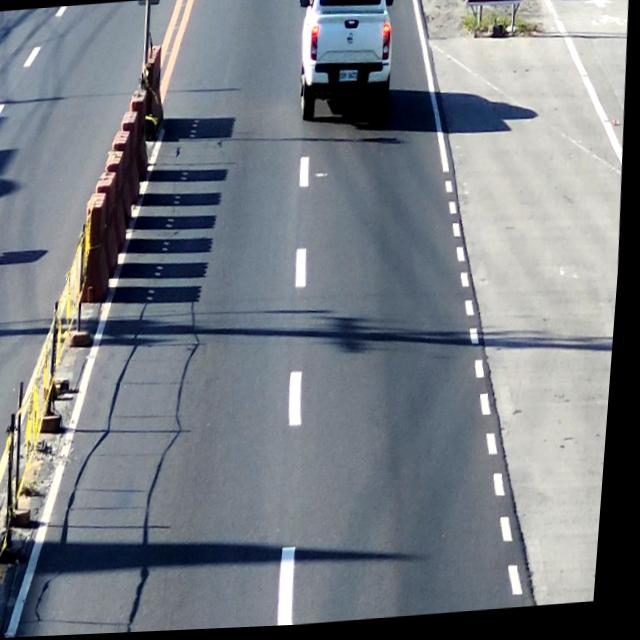Car: (296, 0, 392, 125)
License-Plate: (338, 63, 362, 86)
